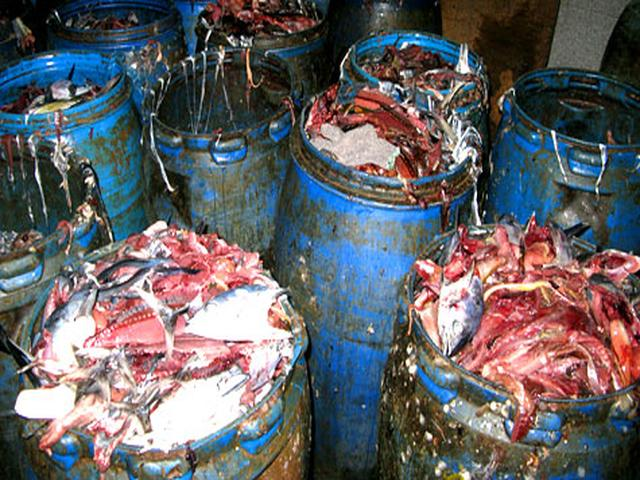garbage: (64, 265, 246, 421), (439, 244, 611, 388)
